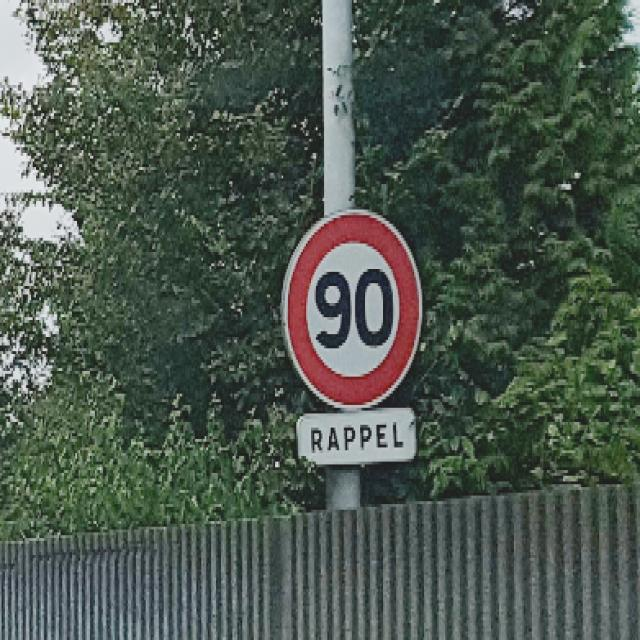speed_90: (283, 206, 426, 413)
